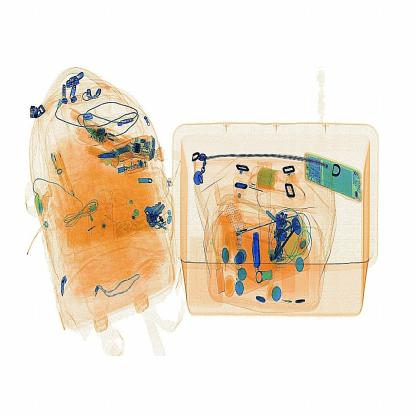knife: (246, 223, 270, 280)
